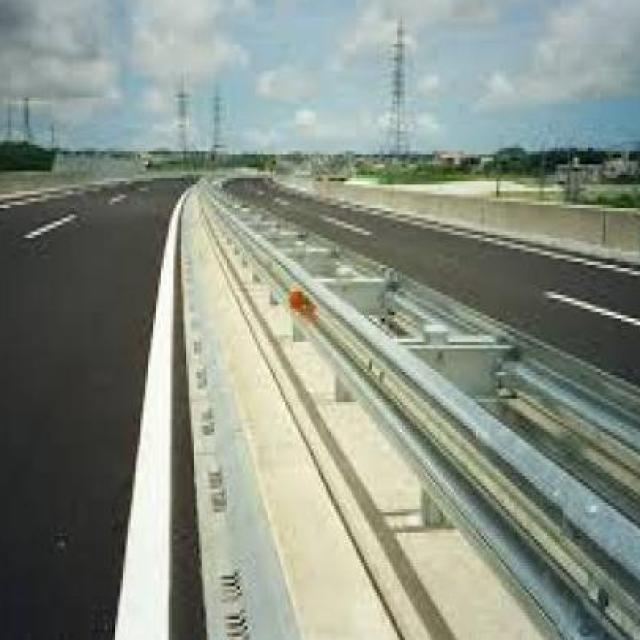Guard rail: (194, 168, 640, 640)
